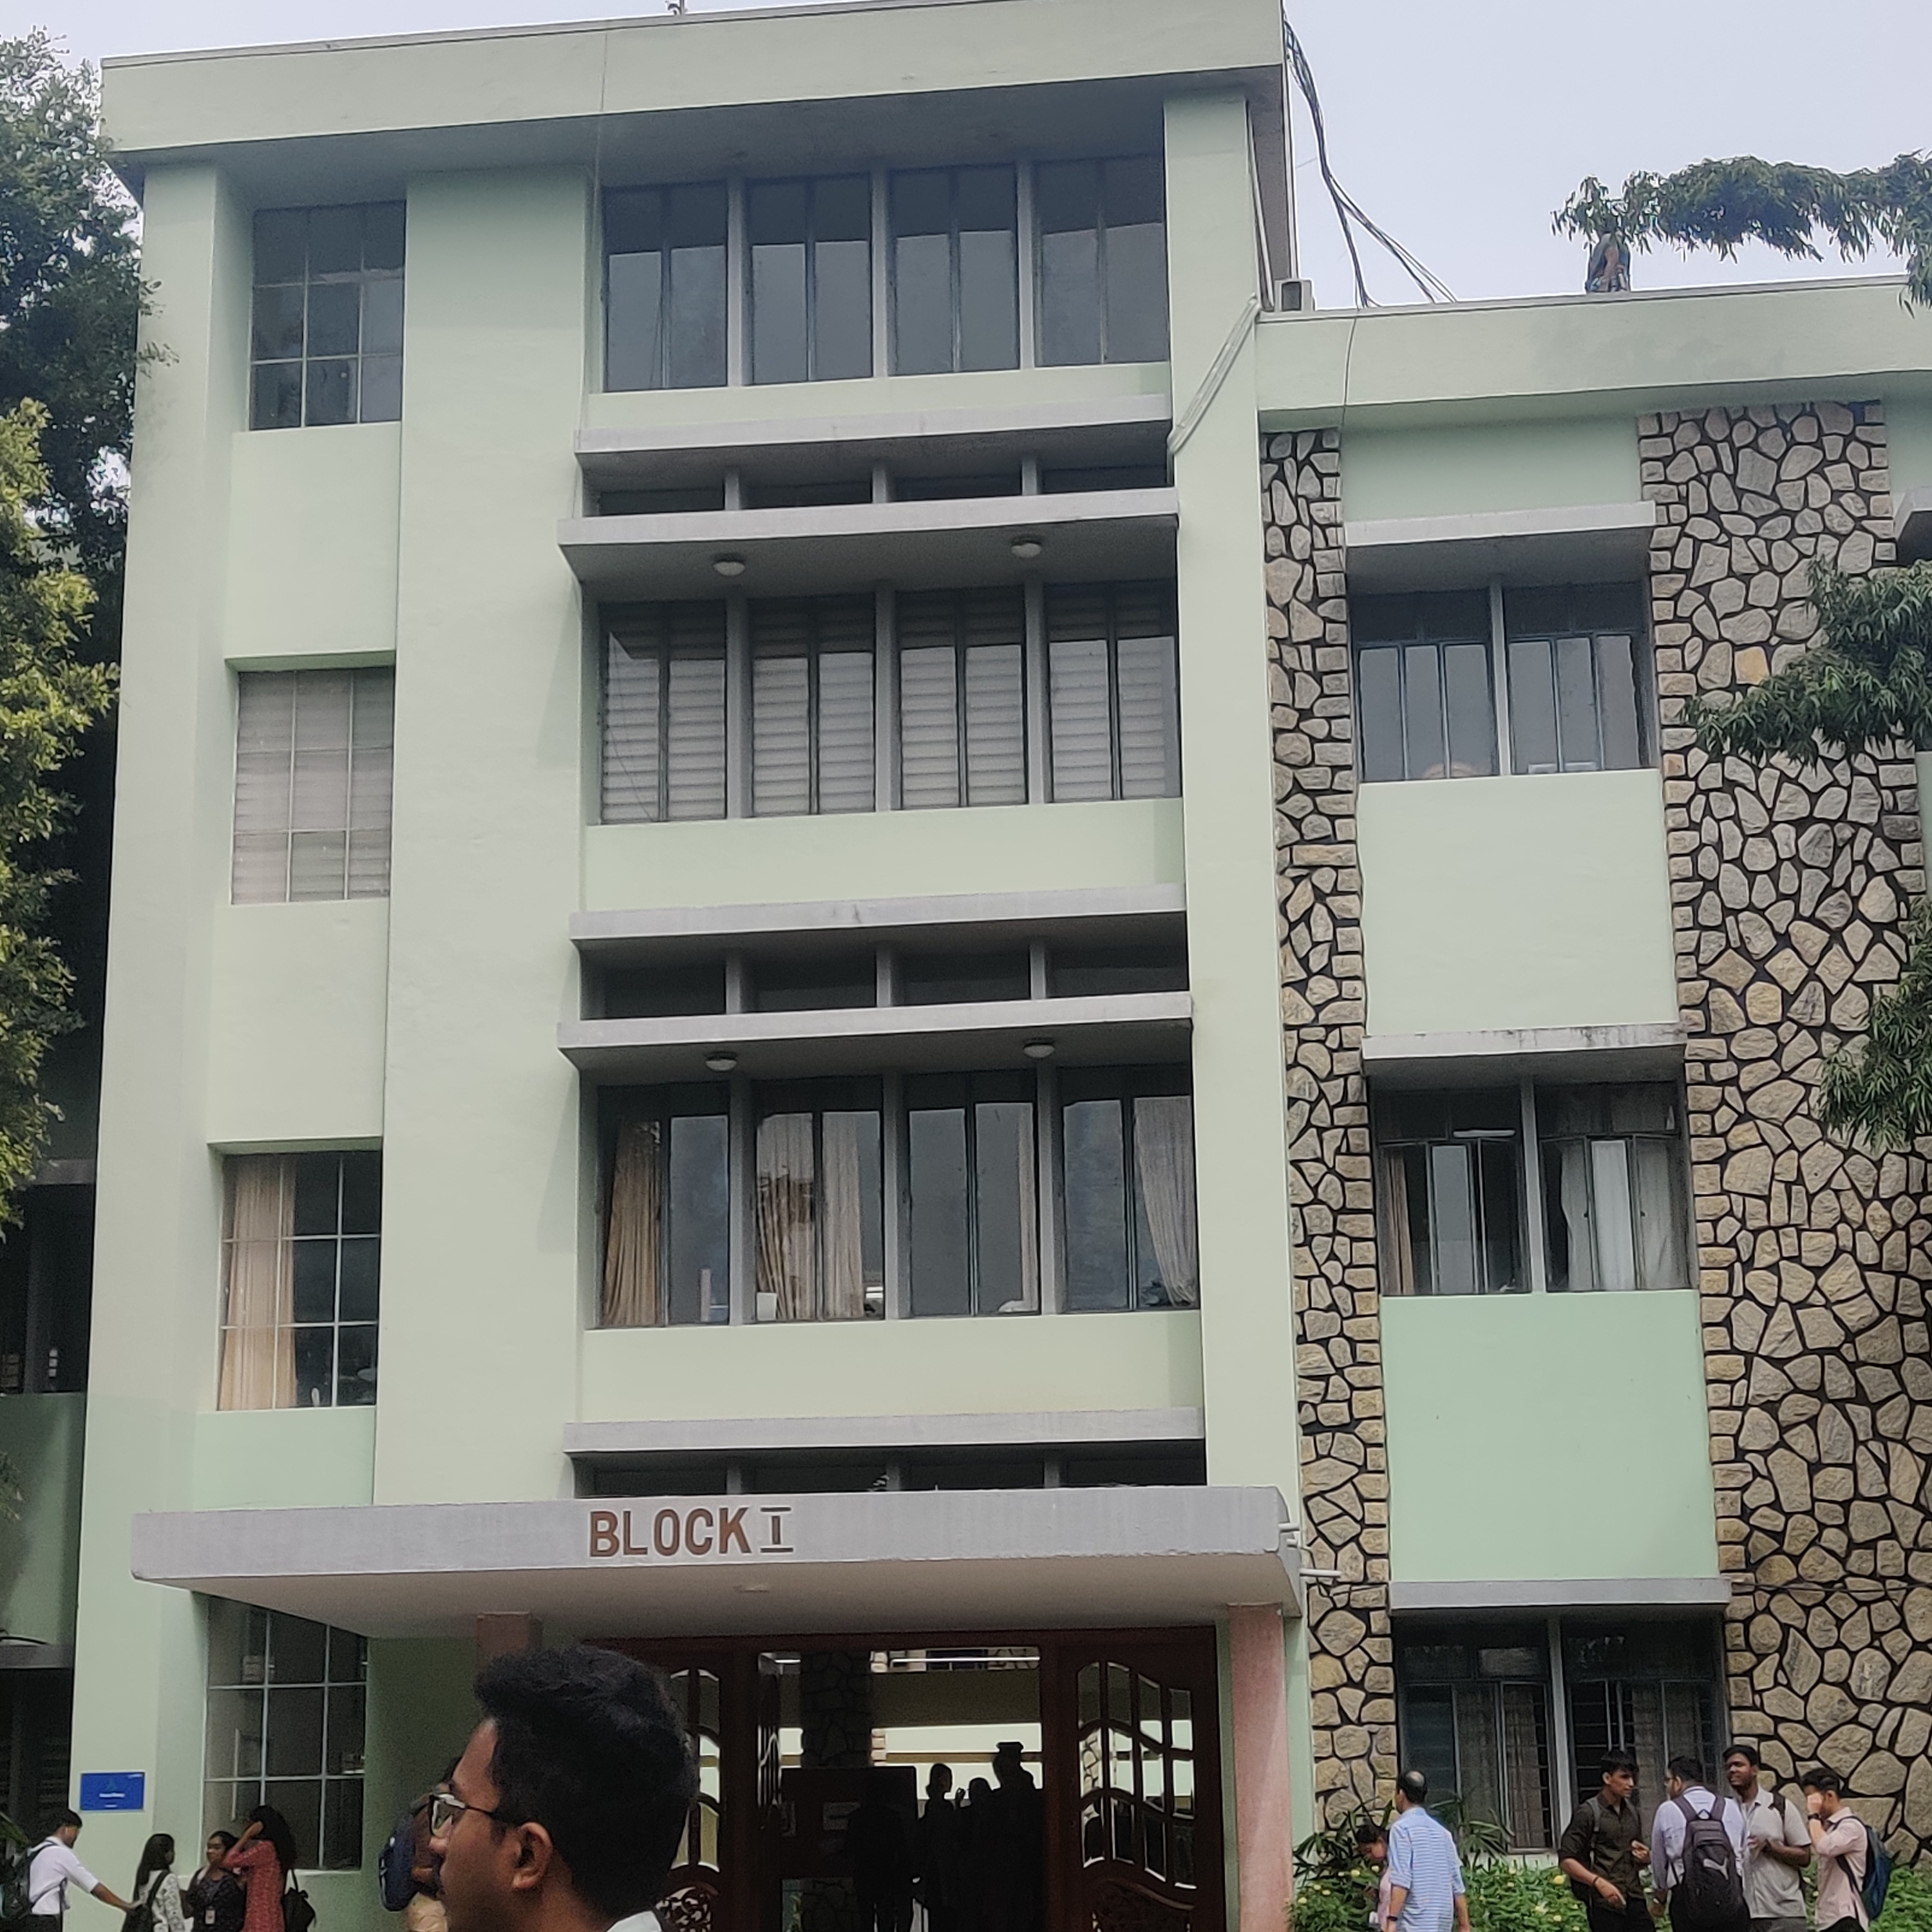Block 1: (113, 34, 1930, 1780)
